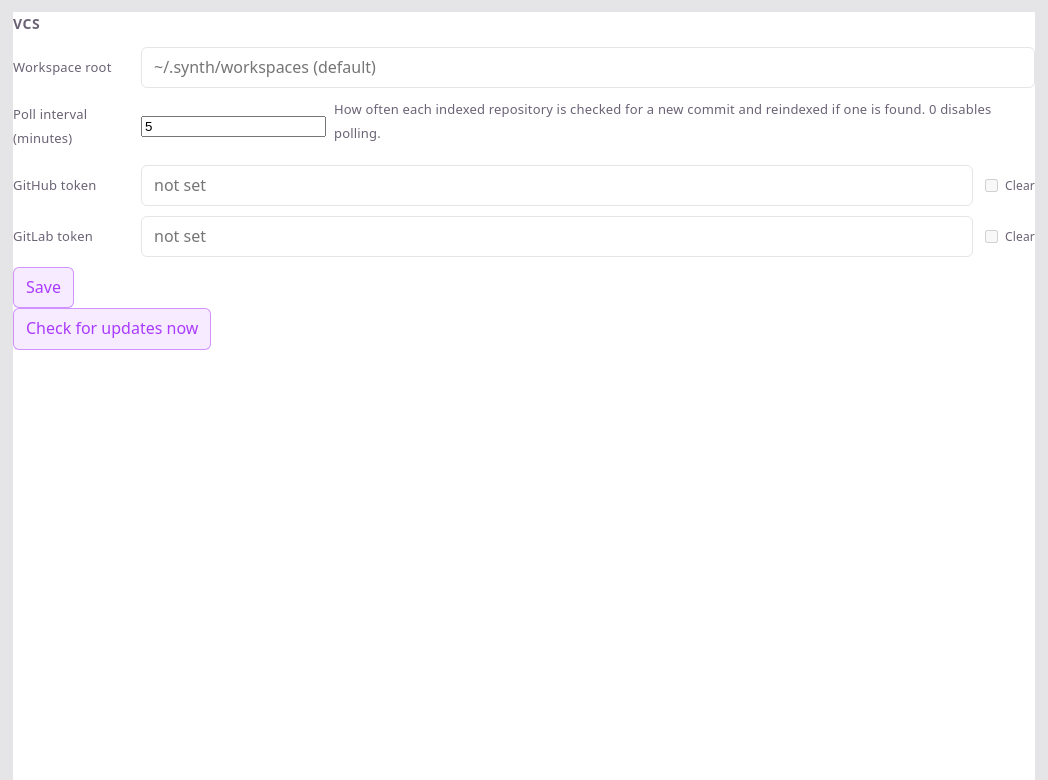
Scenario: VcsSettingsSection › sends only the changed workspace root, omitting untouched tokens
Type "/tmp/work" into the field with placeholder "~/.synth/workspaces (default)" at {"x": 588, "y": 68}, box [141,47,1035,88]
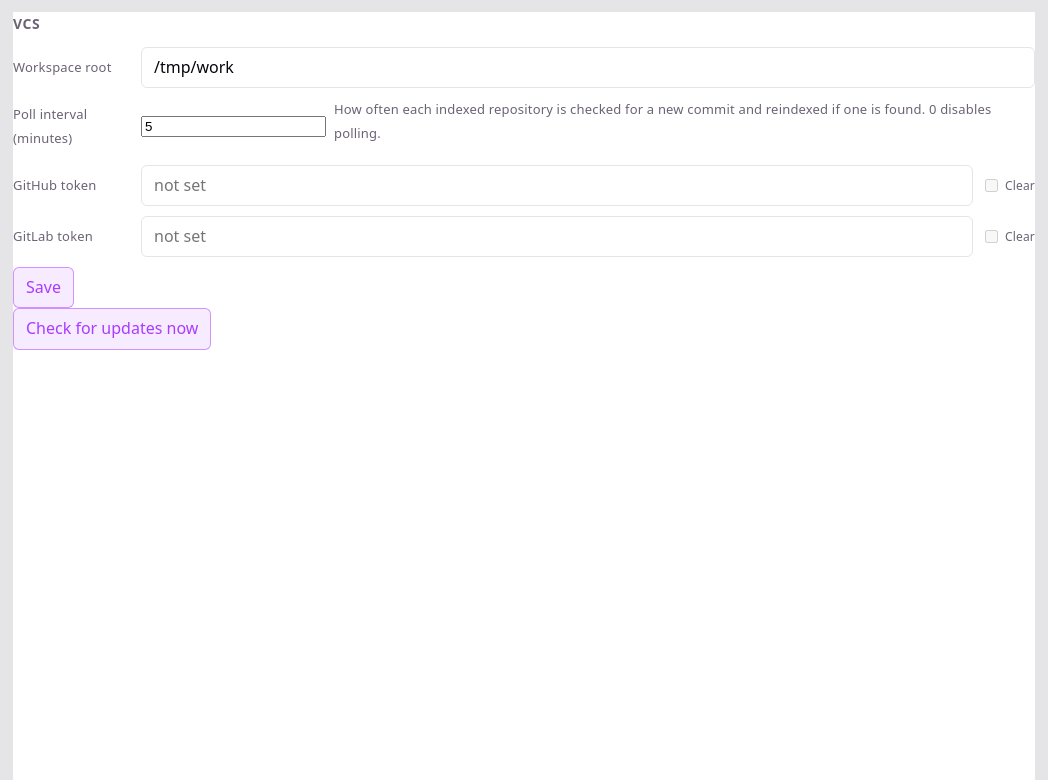
Click the button "Save" at {"x": 43, "y": 288}, box [13,267,74,308]
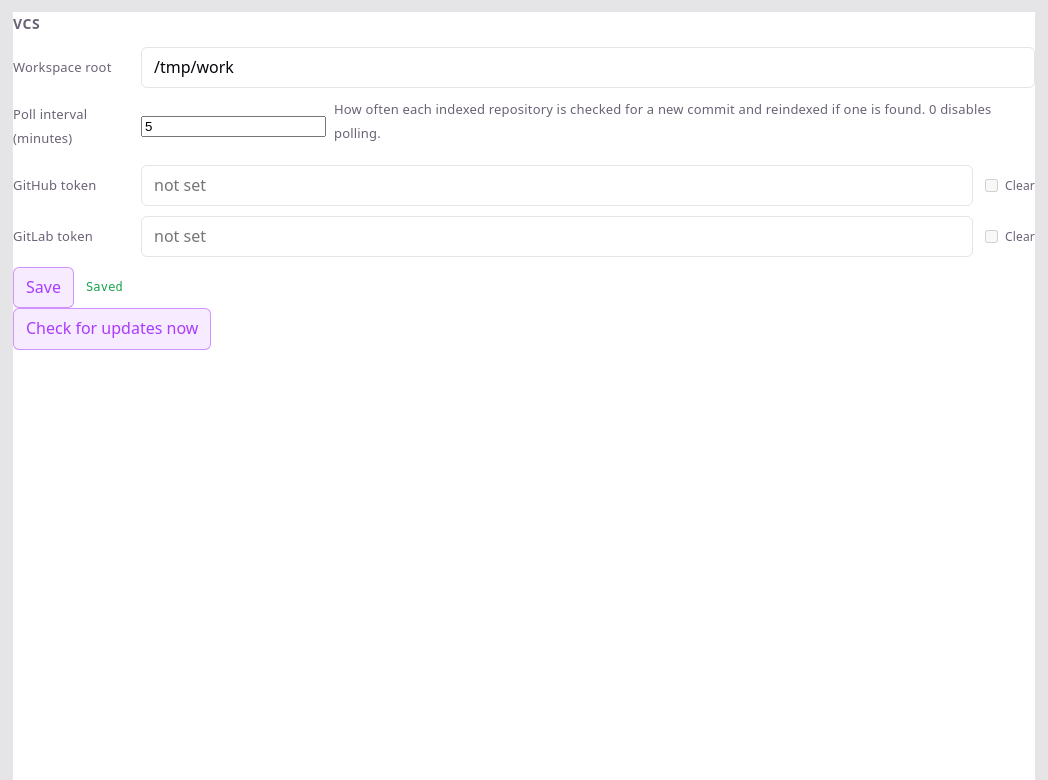
Now the text "Saved" is shown, box [86,276,123,299]
